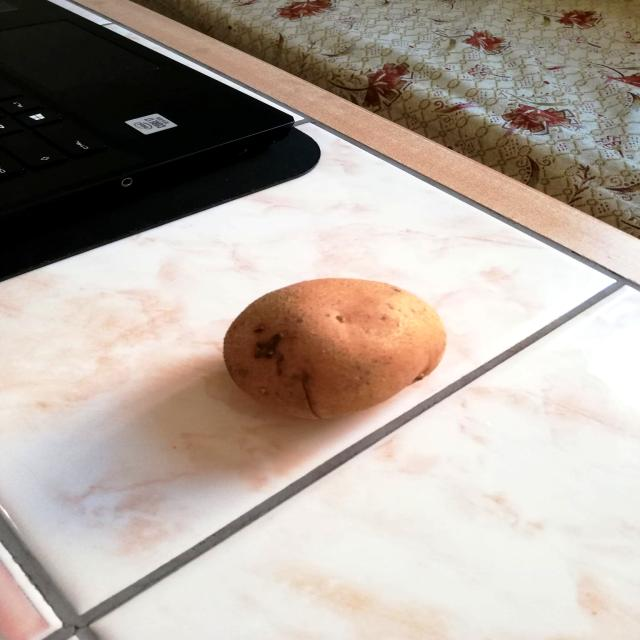potato: (211, 268, 458, 427)
